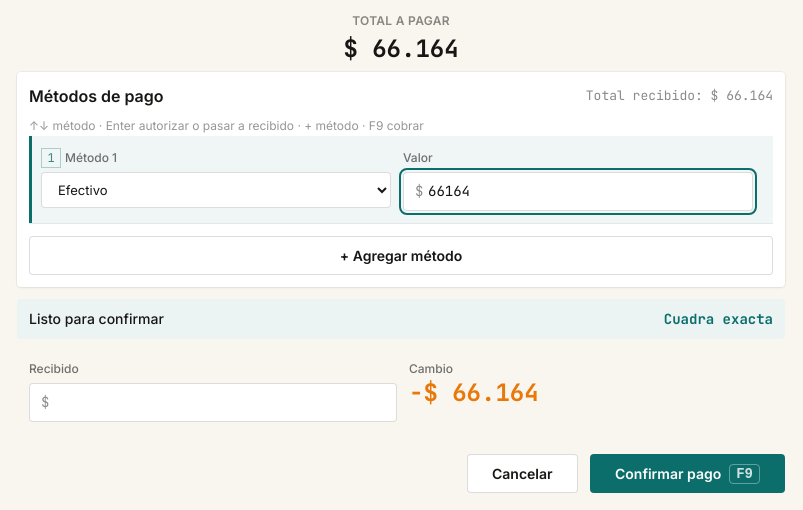
Test case: PaymentProcessing › disables the cancel button while completing
Click the button "Confirmar pago F9" at (688, 473), box [590,454,785,493]
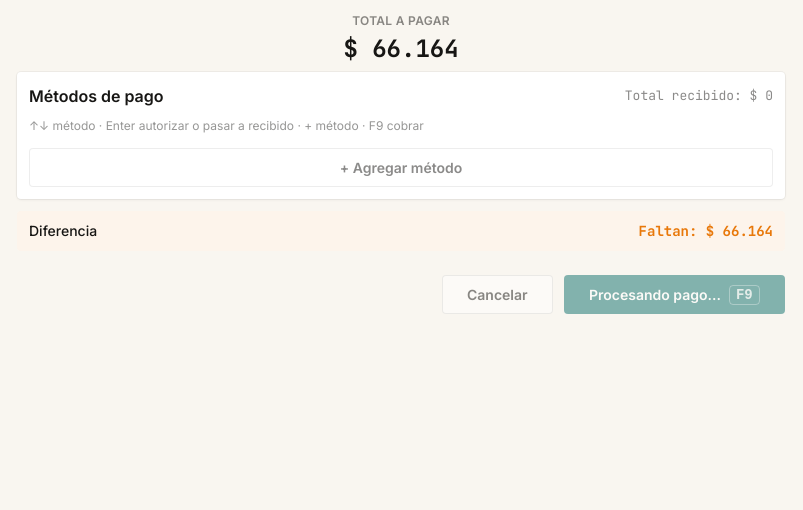
Now the button "Cancelar" is disabled, box [442,275,552,314]
